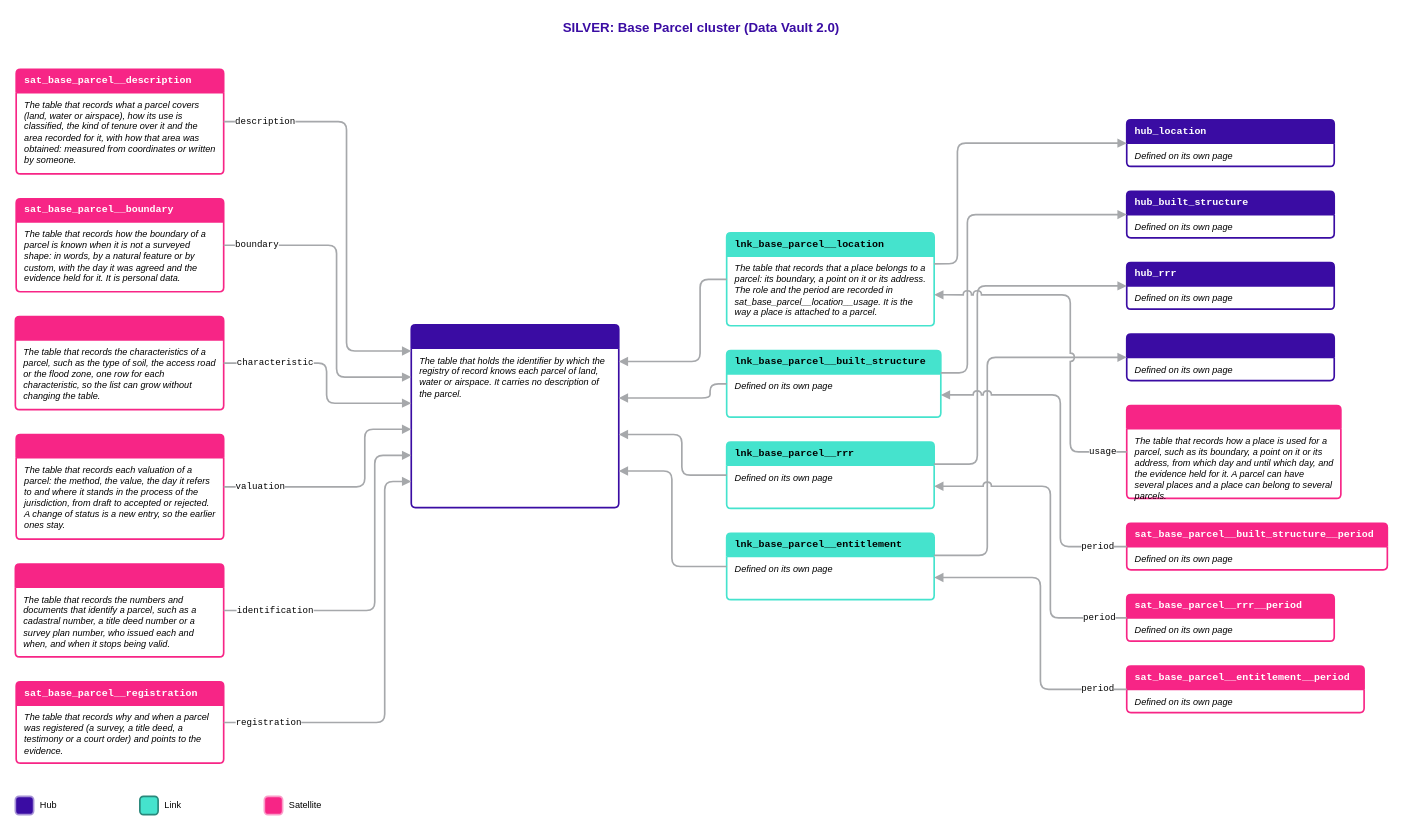
Image size: 1402x829. Some labels were removed from this diagram. The box of each missing label's shape, as (x1, y1, x2, y2) in pixels:
hub_base_parcel: (410, 324, 619, 508)
hub_entitlement: (1125, 333, 1335, 381)
sat_base_parcel__characteristic: (14, 315, 224, 410)
sat_base_parcel__identification: (14, 563, 224, 657)
sat_base_parcel__location__usage: (1125, 404, 1341, 499)
sat_base_parcel__valuation: (15, 433, 224, 540)
